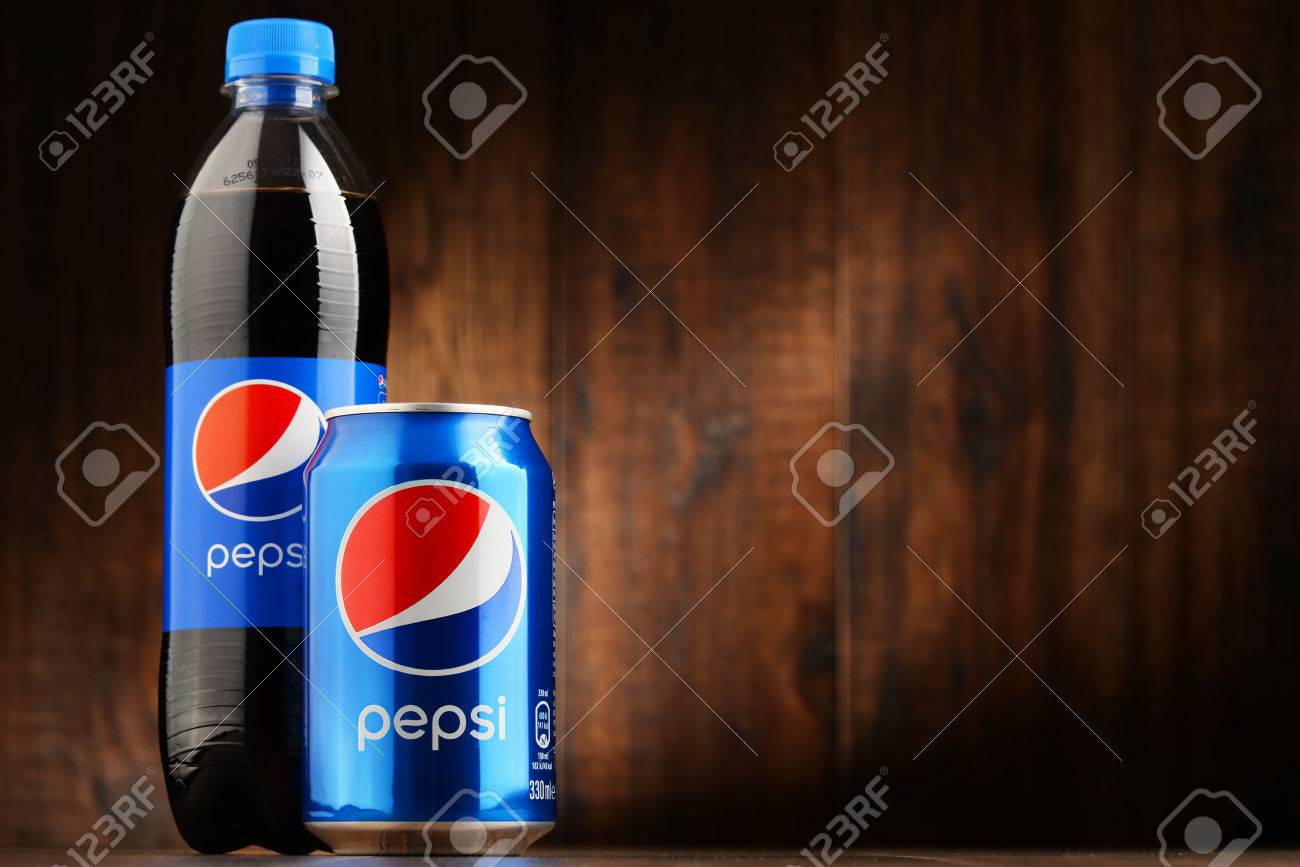pepsi: (328, 476, 521, 674), (336, 476, 522, 674), (336, 476, 521, 674), (186, 379, 329, 521), (190, 379, 329, 521)
